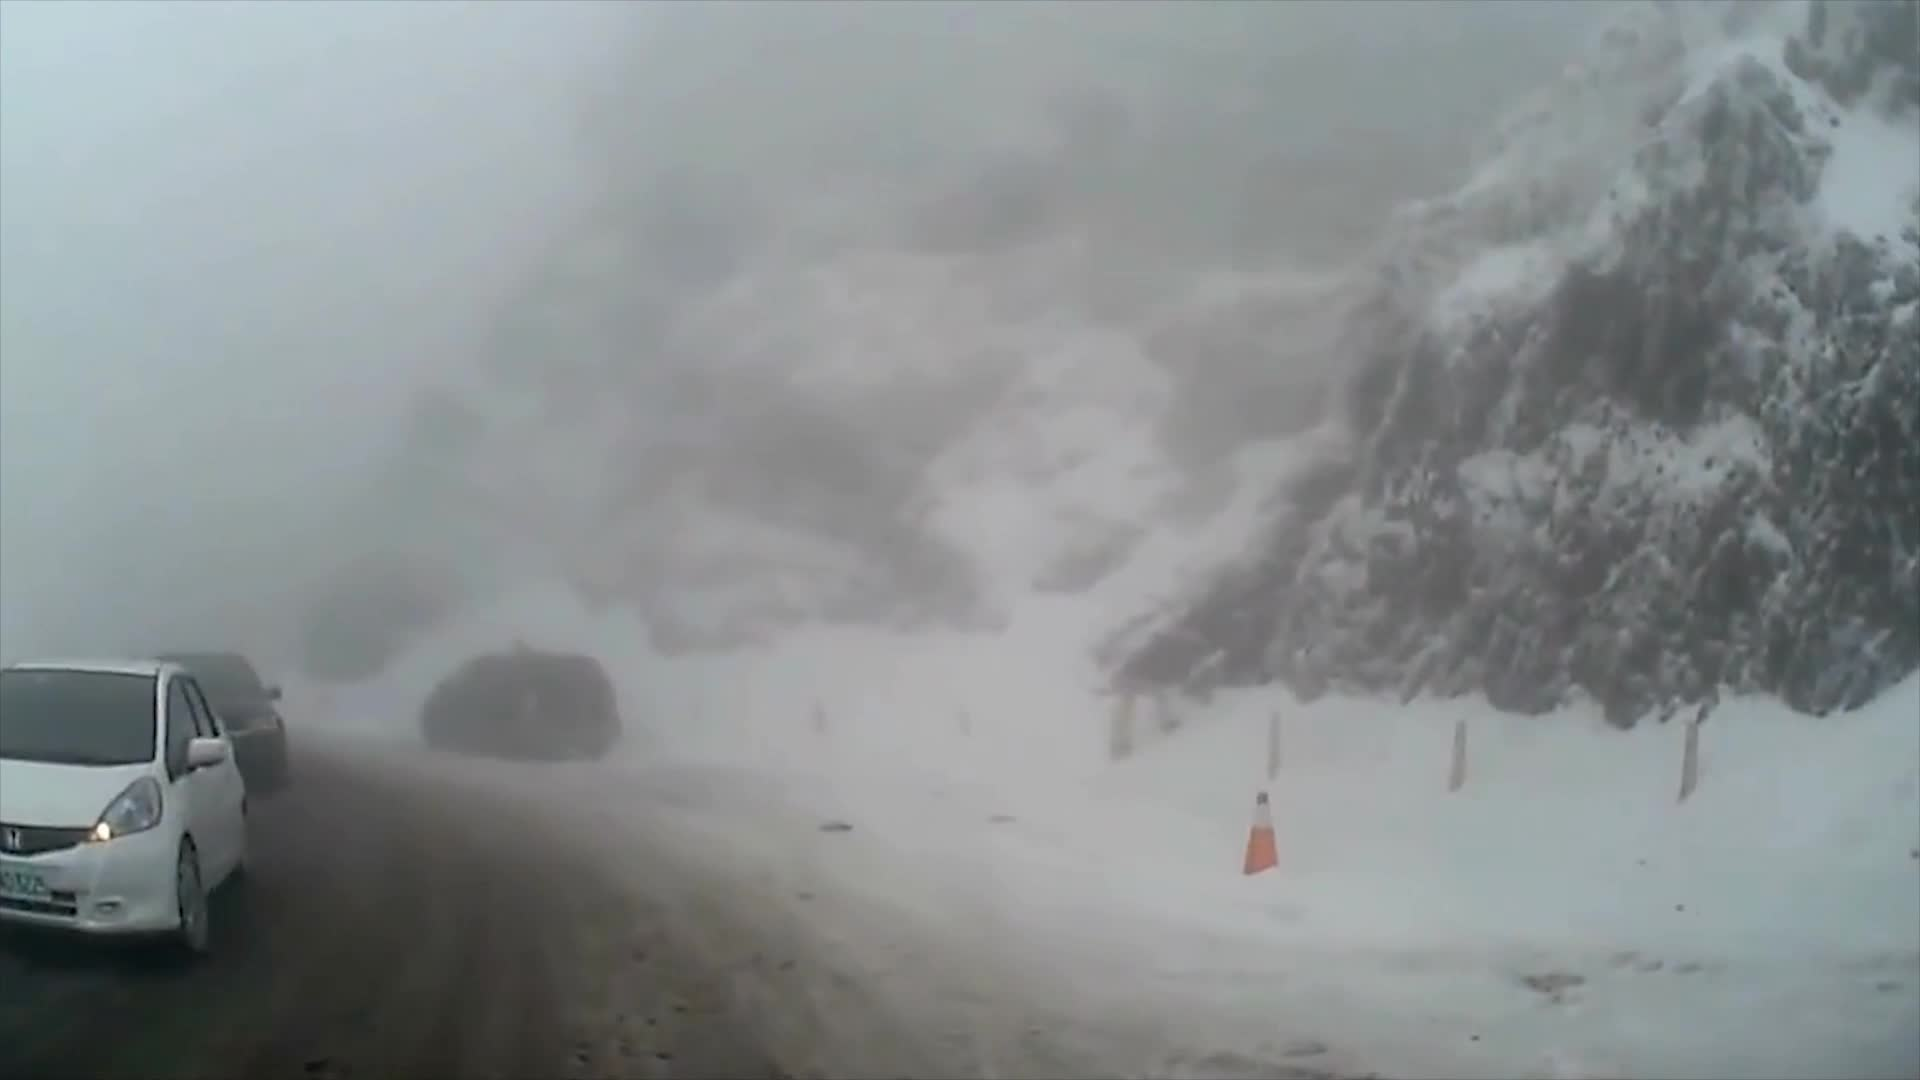vehicle: (0, 655, 257, 960), (422, 650, 621, 762)
